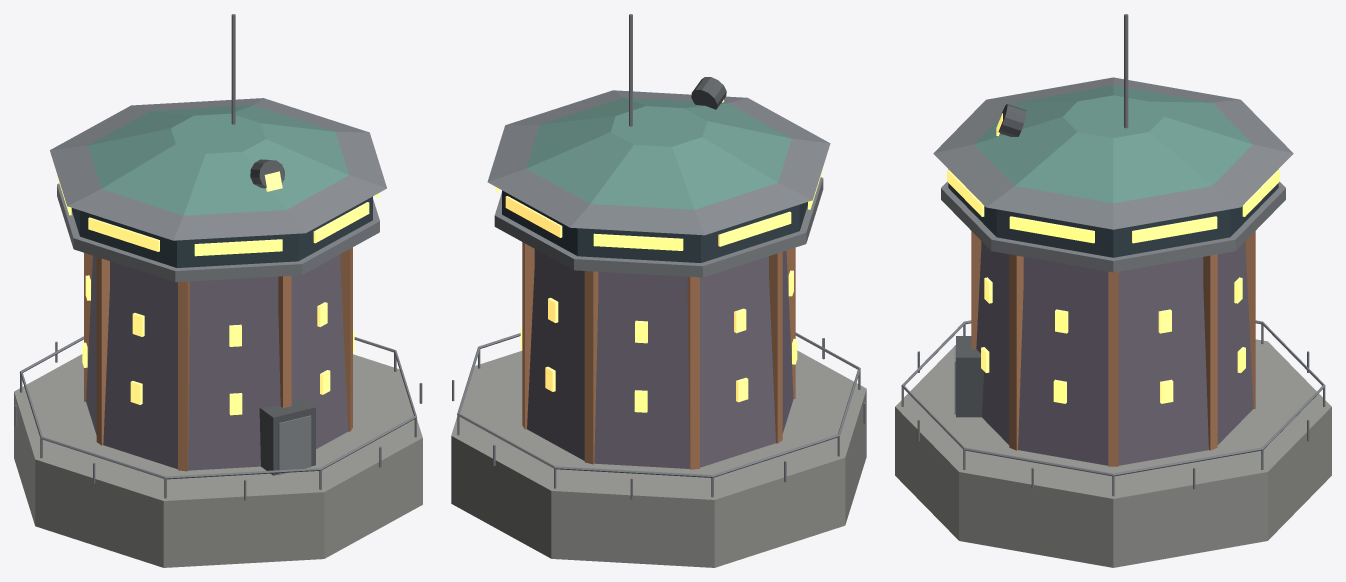
File: guard_tower.glb
3 views of the same model, side by side, from view 1: azimuth 30°, elevation 25°; view 2: azimuth 150°, elevation 25°; view 3: azimuth 270°, elevation 25° (orthographic). The views are drawn at different scales.
Parts seen in each view (by area): view 1: guard_tower; view 2: guard_tower; view 3: guard_tower.
Part boxes in pixels (<box>): guard_tower: <box>14,14,422,567</box>; guard_tower: <box>451,14,866,567</box>; guard_tower: <box>895,14,1331,567</box>.
Bounding box in the file's own units: 17.2 × 20.5 × 17.2.
